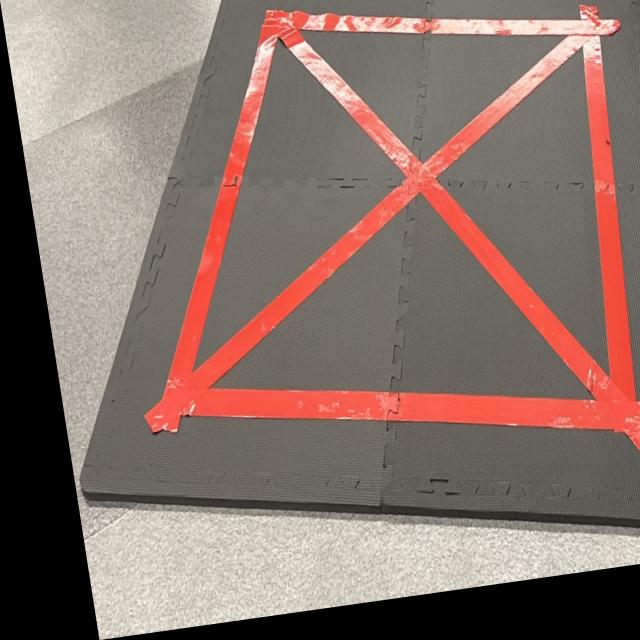landingPads: (10, 0, 640, 618)
